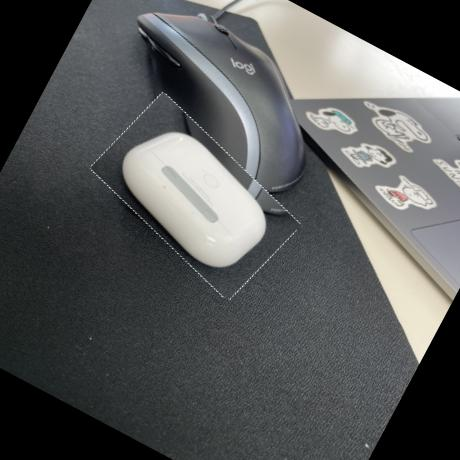airpod3: (76, 92, 315, 302)
